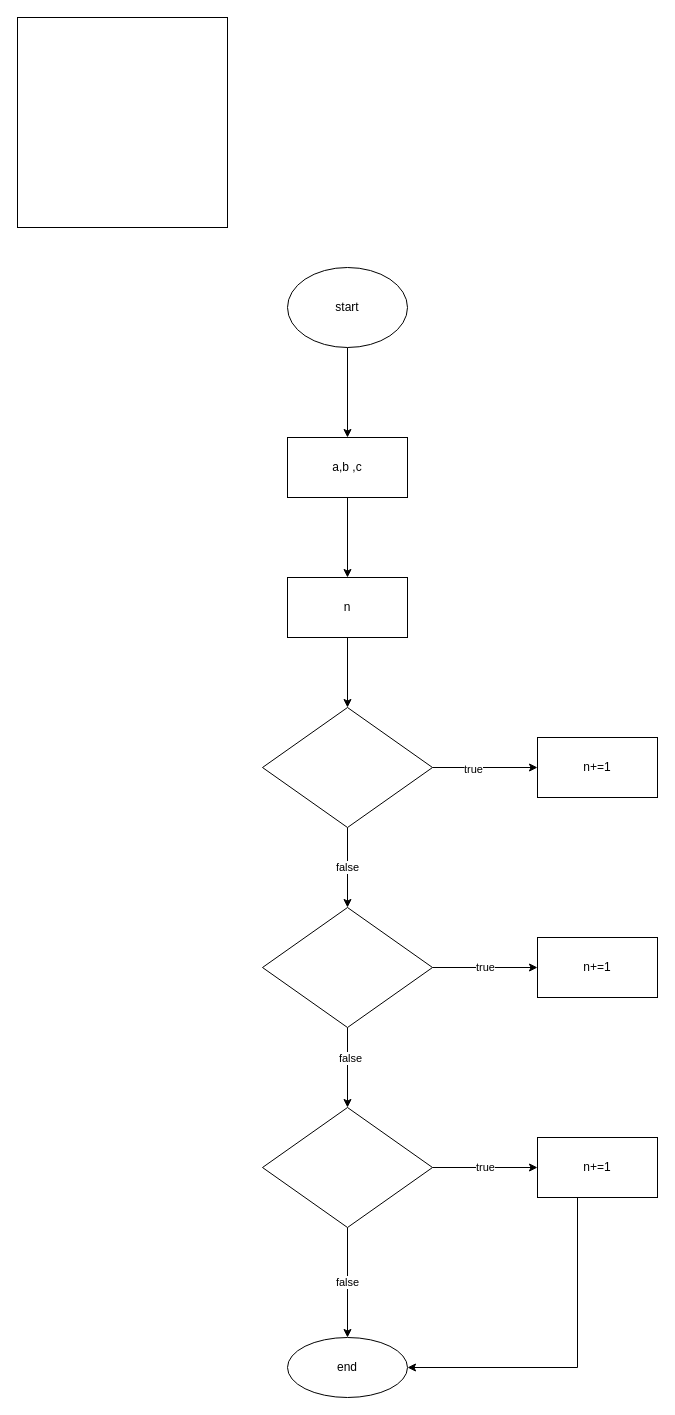
Some shapes in this 675 by 1415 pixel diagram are drawn without their labels. Each missing label, with the box of its shape:
2. Verilmis 3 ededden necesinin 2 reqemli ve ya musbet oldugunu tapan alqoritm: (16, 16, 228, 228)
a>=10&& a<=99 II a>0: (262, 706, 432, 828)
b>=10&& b<=99 II b>0: (262, 906, 432, 1028)
c>=10&& c<=99 II c>0: (262, 1106, 432, 1228)
